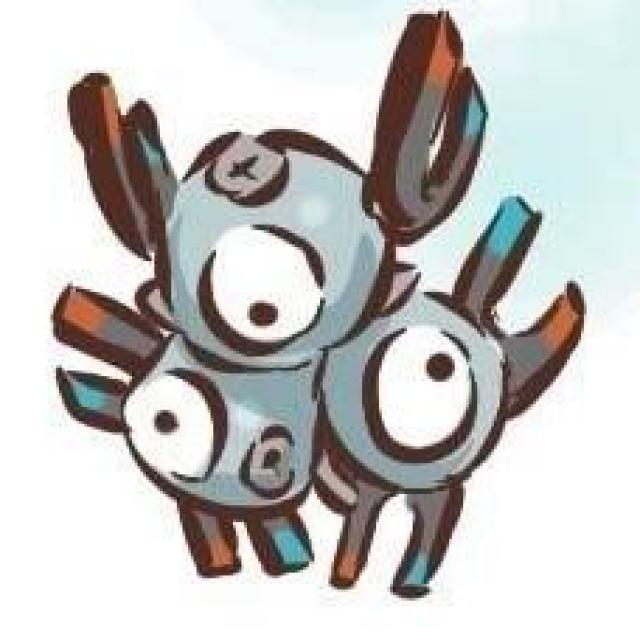Magneton: (53, 72, 566, 586)
